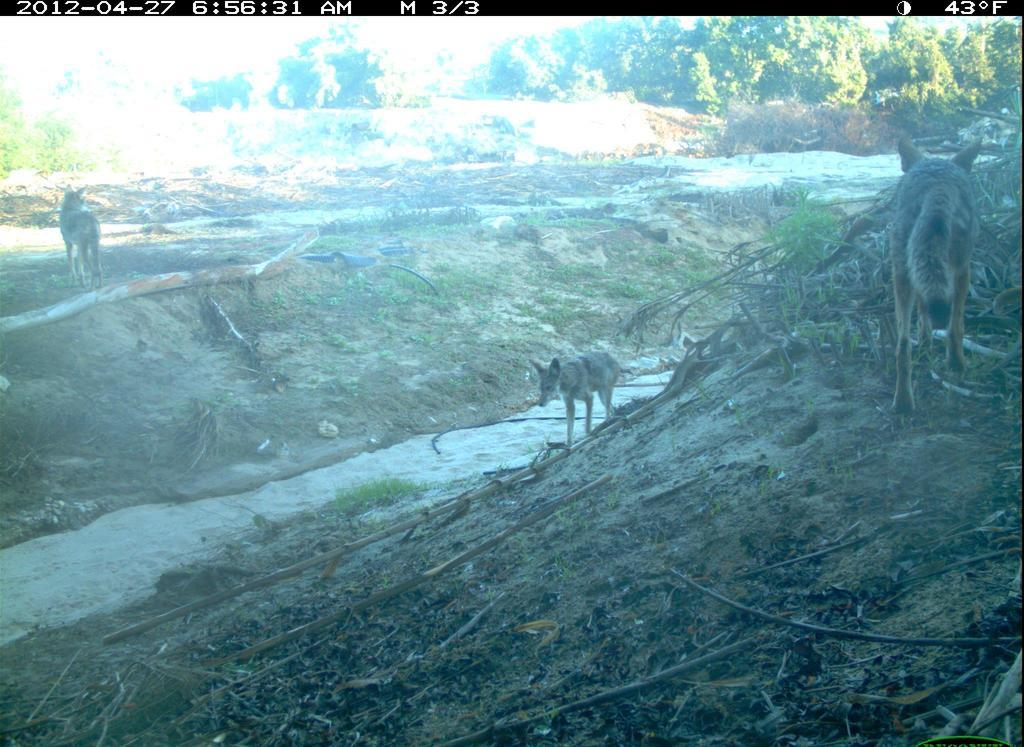coyote: (879, 116, 987, 425), (524, 329, 635, 457), (40, 182, 116, 301)
